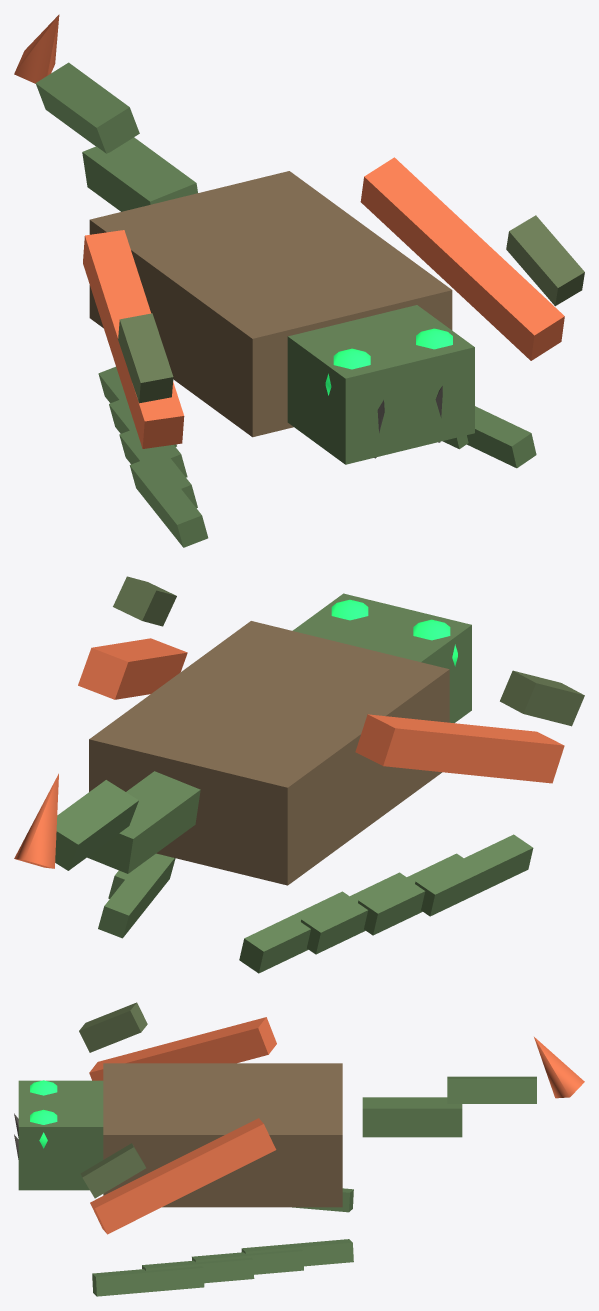
The model's file is DesertScorpionMedB.glb.
The picture shows the model from 3 angles, top to bottom: view 1: azimuth 30°, elevation 25°; view 2: azimuth 150°, elevation 25°; view 3: azimuth 270°, elevation 25°; orthographic projection. The views are drawn at different scales.
Parts seen in each view (by area): view 1: SandScorpionBody; view 2: SandScorpionBody; view 3: SandScorpionBody.
Part boxes in pixels (box(x1,y1,x2,y2)): SandScorpionBody: box(14, 14, 584, 547); SandScorpionBody: box(14, 576, 584, 973); SandScorpionBody: box(14, 1002, 584, 1296).
Bounding box in the file's own units: 1.05 × 0.6127 × 1.58.
